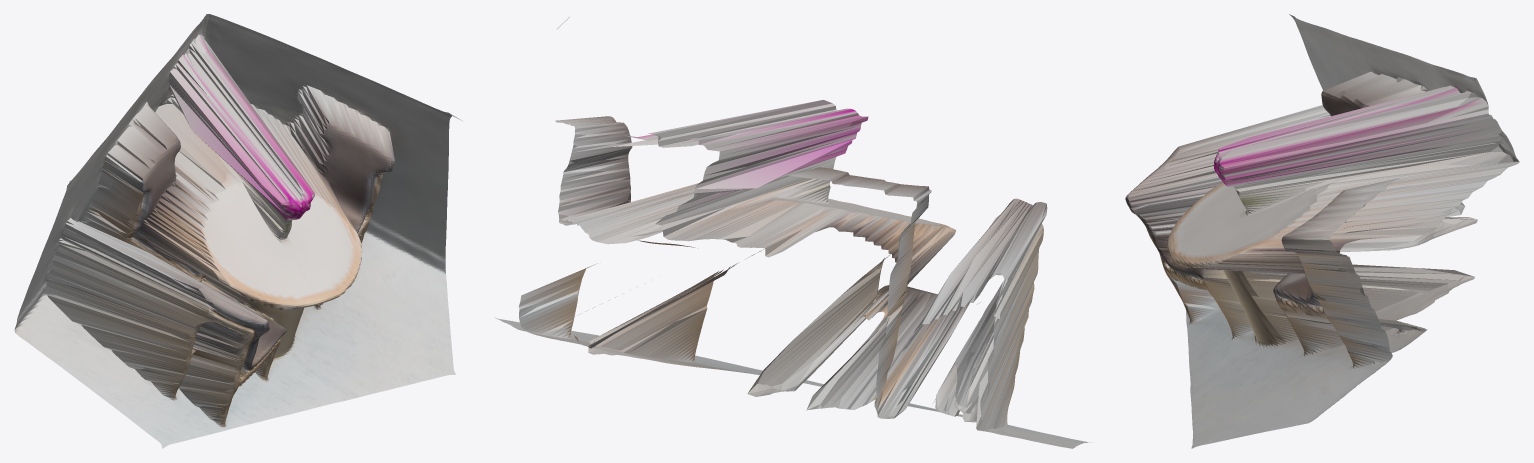
Rendered from vggt_mesh.glb.
3 views of the same model, side by side, from view 1: azimuth 30°, elevation 25°; view 2: azimuth 150°, elevation 25°; view 3: azimuth 270°, elevation 25° (orthographic). The views are drawn at different scales.
Visible parts, largest first — view 1: world; view 2: world; view 3: world.
Boxes of the visible parts, x1,y1,x2,y2 form: world: (14,14,461,448); world: (495,17,1093,448); world: (1125,14,1519,448).
Size of the model in its own units: 1.03 by 0.6942 by 0.7993.
